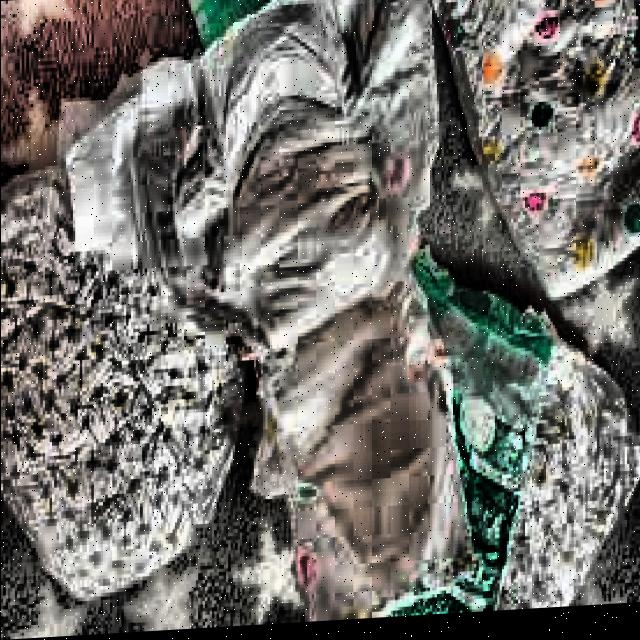trash: (111, 1, 459, 633), (0, 151, 234, 606), (357, 284, 637, 619), (392, 0, 638, 309)
